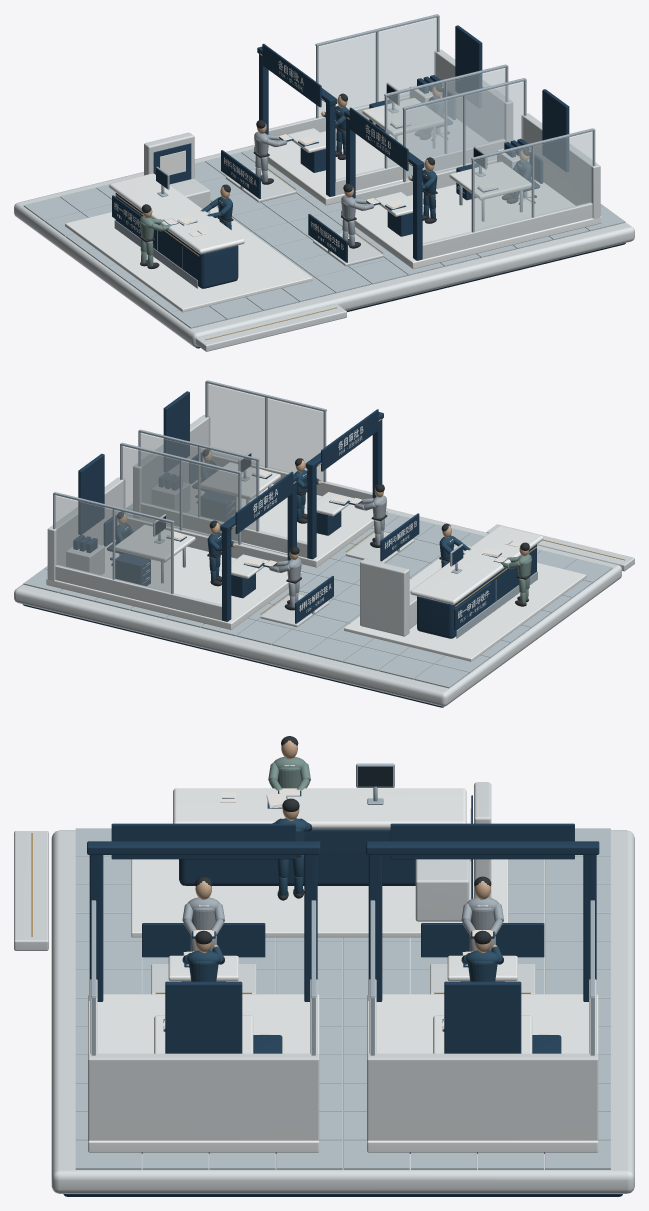
File: organization_lettering_v106.glb
The picture shows the model from 3 angles, top to bottom: view 1: azimuth 30°, elevation 25°; view 2: azimuth 150°, elevation 25°; view 3: azimuth 270°, elevation 25°; orthographic projection. The views are drawn at different scales.
Visible parts, largest first — view 1: Museum miniature stone plinth, INDEPENDENT_APPROVAL_B transparent independent side, Reception floor field, INDEPENDENT_APPROVAL_B separate stone floor, INDEPENDENT_APPROVAL_A transparent independent side.001, INDEPENDENT_APPROVAL_B transparent independent side.001, INDEPENDENT_APPROVAL_A transparent independent side, INDEPENDENT_APPROVAL_A separate stone floor, Continuous white counter worktop, INDEPENDENT_APPROVAL_B rear stone wall, INDEPENDENT_APPROVAL_B low glass sill, INDEPENDENT_APPROVAL_A rear stone wall (+46 smaller); view 2: Museum miniature stone plinth, INDEPENDENT_APPROVAL_A transparent independent side.001, INDEPENDENT_APPROVAL_A transparent independent side, INDEPENDENT_APPROVAL_B transparent independent side, INDEPENDENT_APPROVAL_B transparent independent side.001, Reception floor field, INDEPENDENT_APPROVAL_A separate stone floor, Continuous white counter worktop, INDEPENDENT_APPROVAL_B separate stone floor, Reception rear credential alcove, INDEPENDENT_APPROVAL_A low glass sill.001, INDEPENDENT_APPROVAL_A rear stone wall (+45 smaller); view 3: Museum miniature stone plinth, INDEPENDENT_APPROVAL_A rear stone wall, INDEPENDENT_APPROVAL_B rear stone wall, Reception floor field, INDEPENDENT_APPROVAL_A separate stone floor, INDEPENDENT_APPROVAL_B separate stone floor, Continuous white counter worktop, Continuous acceptance counter, INDEPENDENT_APPROVAL_A rear blue cabinet spine, INDEPENDENT_APPROVAL_B rear blue cabinet spine, V106 INDEPENDENT_APPROVAL_A nameplate, V106 INDEPENDENT_APPROVAL_B nameplate (+55 smaller).
Part boxes in pixels (x1,y1,x2,y2): Museum miniature stone plinth: [14, 145, 634, 347]; INDEPENDENT_APPROVAL_B transparent independent side: [474, 131, 592, 231]; Reception floor field: [65, 206, 312, 312]; INDEPENDENT_APPROVAL_B separate stone floor: [341, 181, 601, 269]; INDEPENDENT_APPROVAL_A transparent independent side.001: [318, 17, 437, 117]; INDEPENDENT_APPROVAL_B transparent independent side.001: [406, 81, 524, 181]; INDEPENDENT_APPROVAL_A transparent independent side: [387, 68, 505, 167]; INDEPENDENT_APPROVAL_A separate stone floor: [254, 118, 496, 205]; Continuous white counter worktop: [109, 173, 244, 254]; INDEPENDENT_APPROVAL_B rear stone wall: [521, 113, 600, 219]; INDEPENDENT_APPROVAL_B low glass sill: [422, 202, 592, 259]; INDEPENDENT_APPROVAL_A rear stone wall: [434, 49, 513, 143]; Museum miniature stone plinth: [14, 508, 621, 706]; INDEPENDENT_APPROVAL_A transparent independent side.001: [55, 495, 170, 592]; INDEPENDENT_APPROVAL_A transparent independent side: [122, 446, 238, 543]; INDEPENDENT_APPROVAL_B transparent independent side: [207, 383, 323, 481]; INDEPENDENT_APPROVAL_B transparent independent side.001: [140, 433, 256, 530]; Reception floor field: [344, 545, 586, 661]; INDEPENDENT_APPROVAL_A separate stone floor: [46, 540, 301, 629]; Continuous white counter worktop: [410, 525, 543, 604]; INDEPENDENT_APPROVAL_B separate stone floor: [132, 480, 387, 567]; Reception rear credential alcove: [360, 558, 409, 636]; INDEPENDENT_APPROVAL_A low glass sill.001: [55, 564, 221, 620]; INDEPENDENT_APPROVAL_A rear stone wall: [47, 477, 125, 581]; Museum miniature stone plinth: [51, 830, 634, 1193]; INDEPENDENT_APPROVAL_A rear stone wall: [367, 1053, 598, 1140]; INDEPENDENT_APPROVAL_B rear stone wall: [88, 1053, 319, 1140]; Reception floor field: [131, 859, 508, 937]; INDEPENDENT_APPROVAL_A separate stone floor: [367, 994, 598, 1152]; INDEPENDENT_APPROVAL_B separate stone floor: [88, 994, 319, 1152]; Continuous white counter worktop: [173, 788, 466, 829]; Continuous acceptance counter: [179, 829, 415, 885]; INDEPENDENT_APPROVAL_A rear blue cabinet spine: [444, 981, 521, 1053]; INDEPENDENT_APPROVAL_B rear blue cabinet spine: [165, 981, 242, 1053]; V106 INDEPENDENT_APPROVAL_A nameplate: [390, 823, 574, 859]; V106 INDEPENDENT_APPROVAL_B nameplate: [111, 823, 295, 859].
Size of the model in its own units: 12.2 by 3.53 by 9.26.
